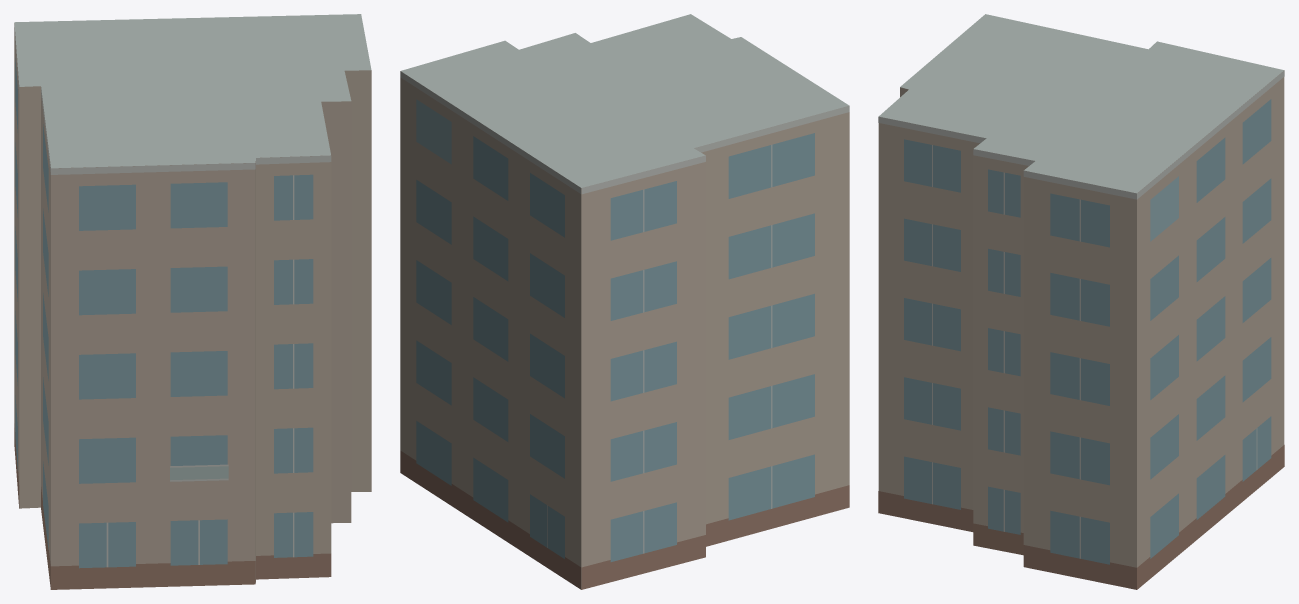
The model's file is survey-upis-33001357.glb.
The picture shows the model from 3 angles, left to right: view 1: azimuth 30°, elevation 25°; view 2: azimuth 150°, elevation 25°; view 3: azimuth 270°, elevation 25°; orthographic projection. The views are drawn at different scales.
Visible parts, largest first — view 1: survey-upis-33001357.tmp; view 2: survey-upis-33001357.tmp; view 3: survey-upis-33001357.tmp.
Part boxes in pixels (x1,y1,x2,y2): survey-upis-33001357.tmp: (14,14,371,589); survey-upis-33001357.tmp: (400,14,849,589); survey-upis-33001357.tmp: (878,14,1284,589).
Size of the model in its own units: 14.95 by 15.4 by 14.3.
